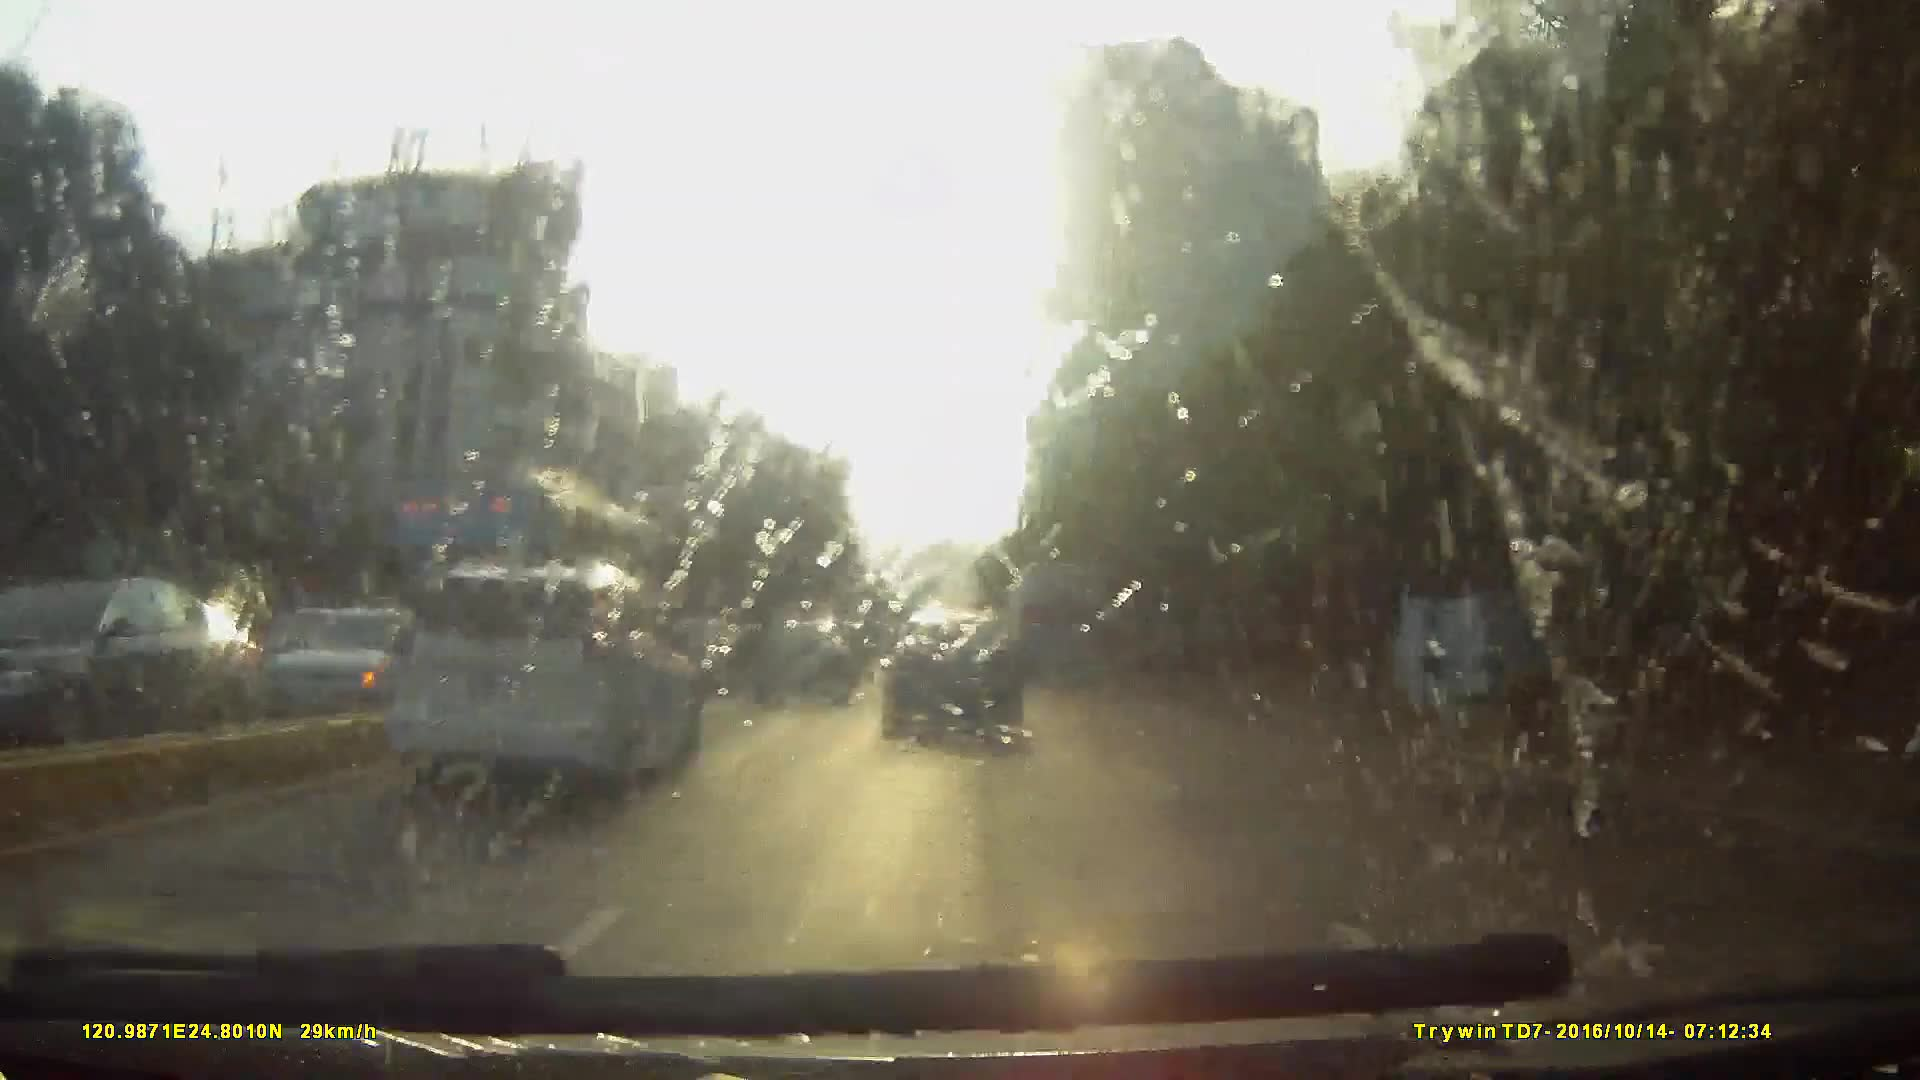vehicle: (251, 556, 684, 868), (322, 455, 687, 721), (396, 556, 704, 793), (884, 607, 1021, 752), (1001, 560, 1106, 687), (741, 618, 849, 705), (866, 638, 915, 687)
